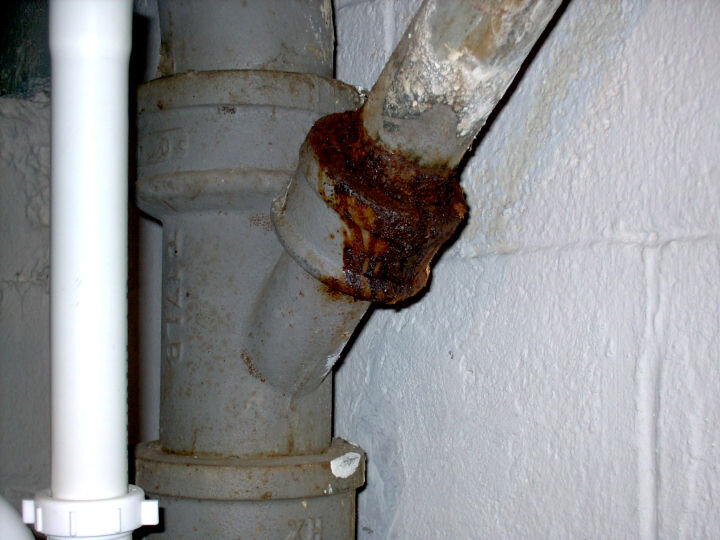Severe: (299, 99, 474, 313)
